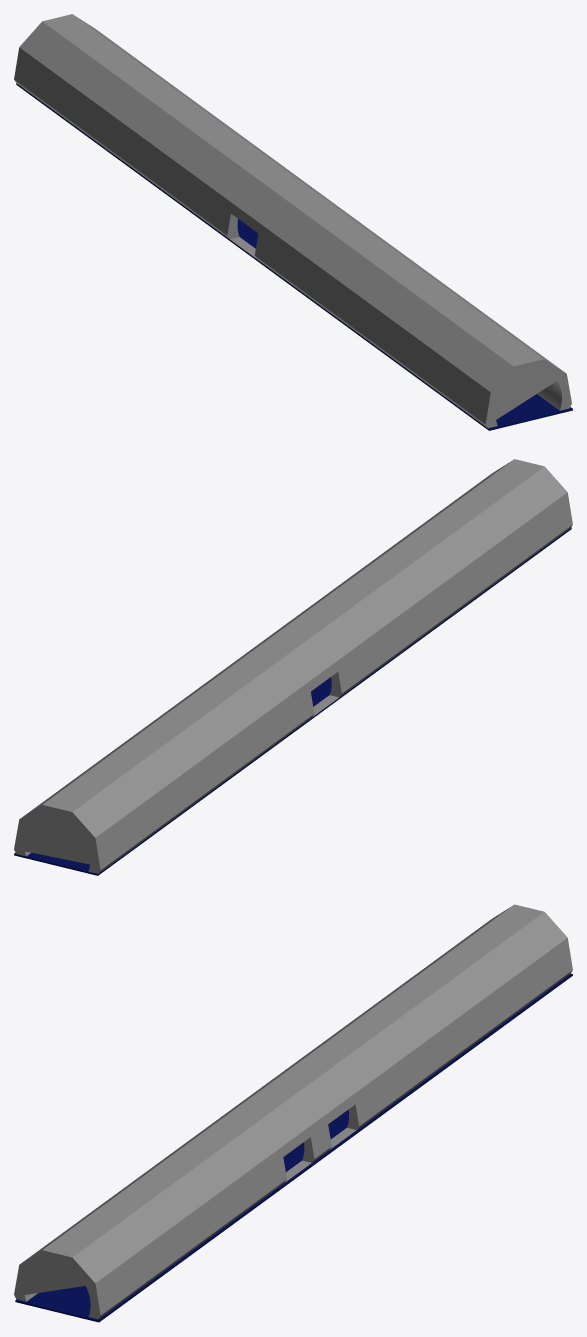
File: menu_toonel.fbx
3 renders of one model, top to bottom at view 1: azimuth 30°, elevation 25°; view 2: azimuth 150°, elevation 25°; view 3: azimuth 330°, elevation 25°, orthographic.
Parts seen in each view (by area): view 1: Cylinder, Cube; view 2: Cylinder, Cube; view 3: Cylinder, Cube.
Boxes of the visible parts, x1,y1,x2,y2 form: Cylinder: (14, 14, 571, 428); Cube: (16, 83, 572, 430); Cylinder: (14, 459, 572, 873); Cube: (14, 527, 571, 875); Cylinder: (14, 904, 572, 1319); Cube: (15, 973, 572, 1322).
Size of the model in its own units: 2186 by 1382 by 20704.
